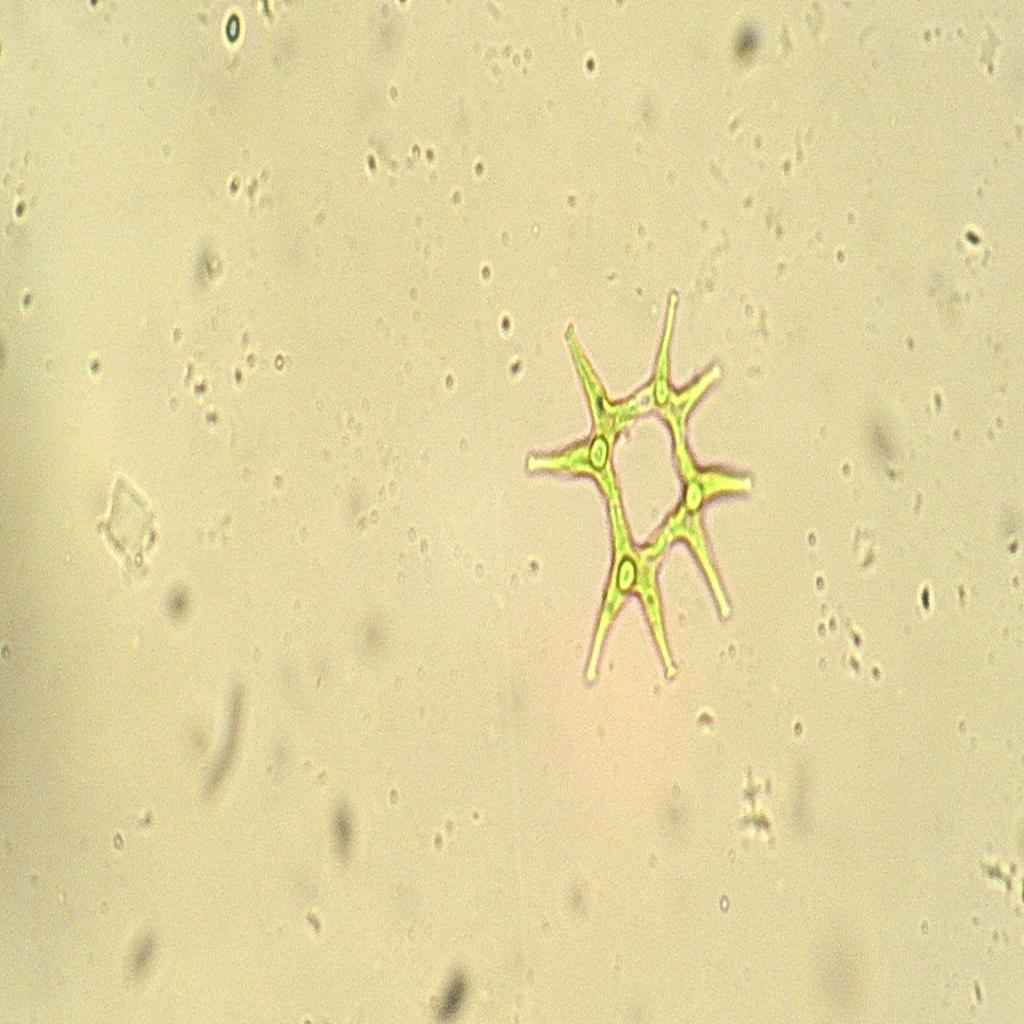Pediastrum_75O: (516, 262, 785, 702)
